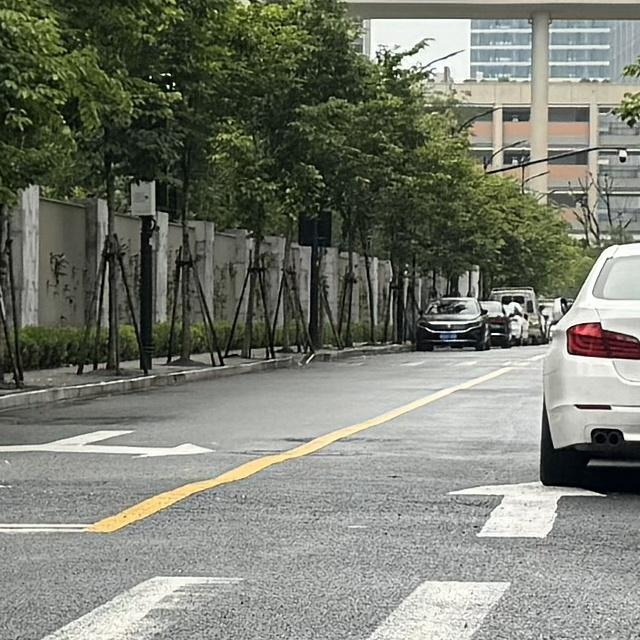curb: (0, 356, 304, 412), (309, 346, 410, 361)
